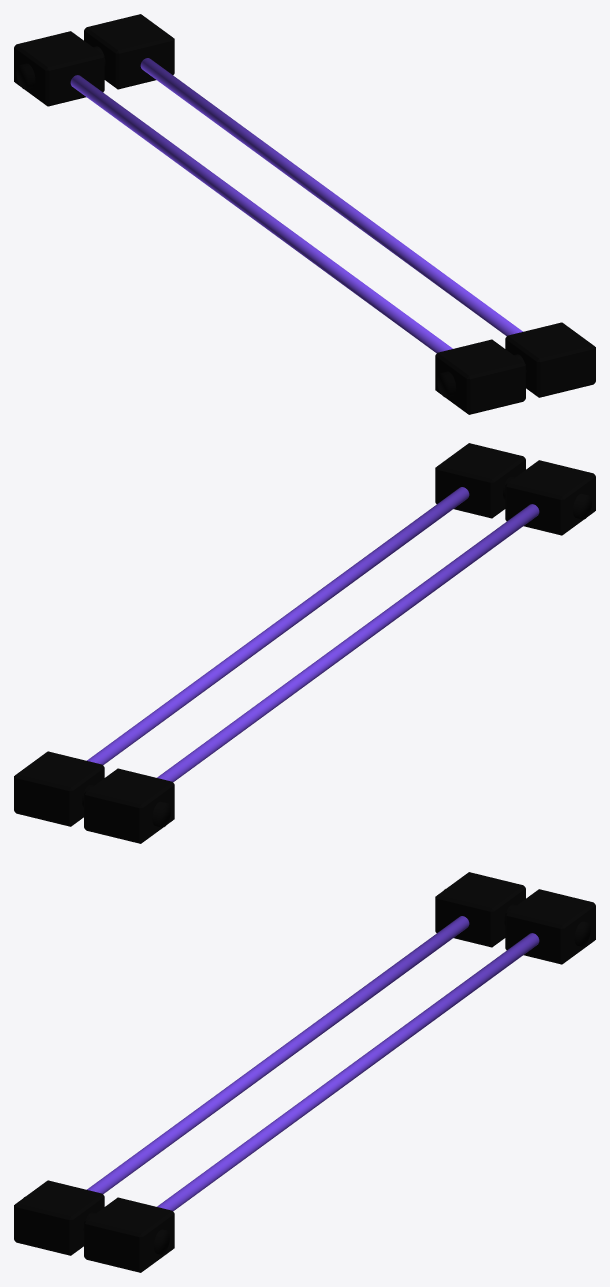
Rendered from claw-sides.glb.
The picture shows the model from 3 angles, top to bottom: view 1: azimuth 30°, elevation 25°; view 2: azimuth 150°, elevation 25°; view 3: azimuth 330°, elevation 25°; orthographic projection.
Parts seen in each view (by area): view 1: SM_HorizontalBar_Sides; view 2: SM_HorizontalBar_Sides; view 3: SM_HorizontalBar_Sides.
Part boxes in pixels (x1,y1,x2,y2): SM_HorizontalBar_Sides: (14,14,595,414); SM_HorizontalBar_Sides: (14,443,595,843); SM_HorizontalBar_Sides: (14,872,595,1272).
Bounding box in the file's own units: 1.72 × 0.4626 × 9.74.
